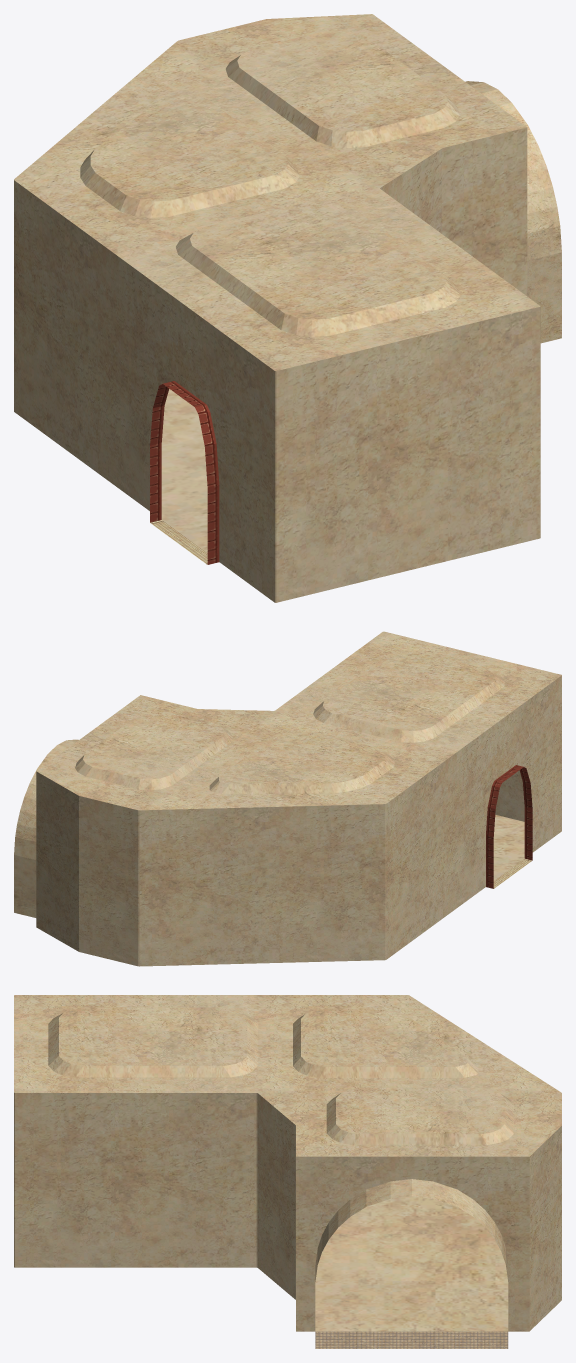
File: thm_tato_cantina_r15_back_entrance_mesh_r15.fbx
3 renders of one model, top to bottom at view 1: azimuth 30°, elevation 25°; view 2: azimuth 150°, elevation 25°; view 3: azimuth 270°, elevation 25°, orthographic. The views are drawn at different scales.
Visible parts, largest first — view 1: mesh_node; view 2: mesh_node; view 3: mesh_node.
Part boxes in pixels (x1=…): mesh_node: x1=14, y1=14, x2=561, y2=602; mesh_node: x1=14, y1=631, x2=561, y2=966; mesh_node: x1=14, y1=995, x2=561, y2=1348.
Bounding box in the file's own units: 11.25 × 5.23 × 14.21.
